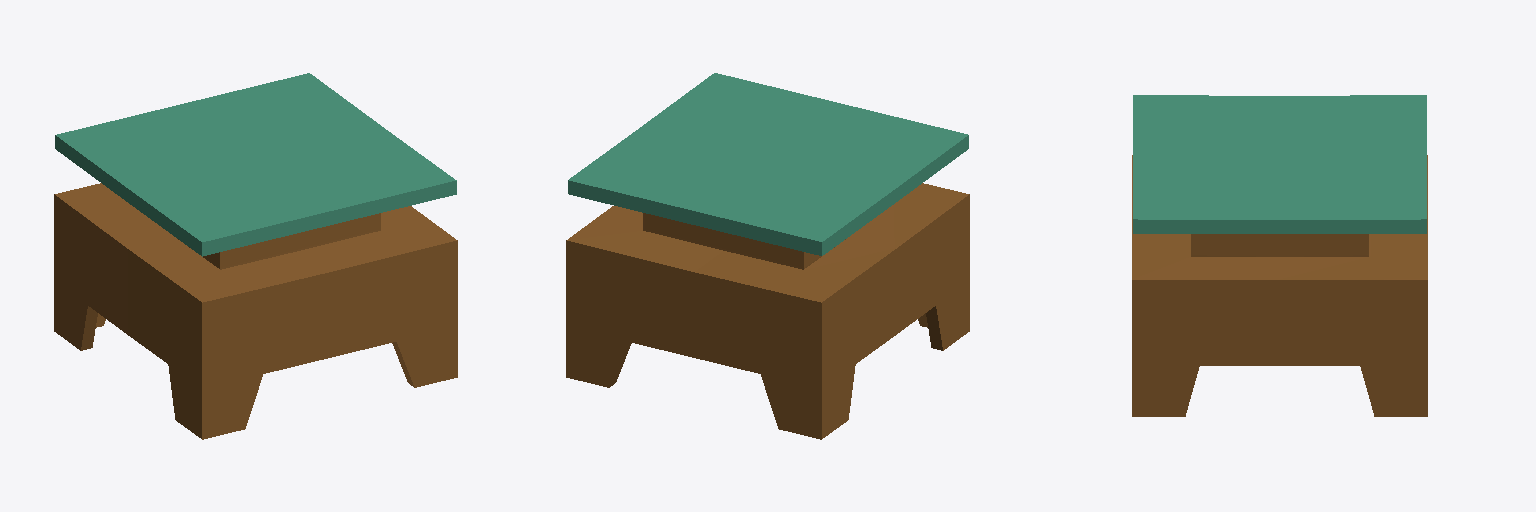
The model's file is Table.obj.
3 renders of one model, left to right at view 1: azimuth 30°, elevation 25°; view 2: azimuth 150°, elevation 25°; view 3: azimuth 270°, elevation 25°, orthographic.
Visible parts, largest first — view 1: Wood Table, Table Marble; view 2: Wood Table, Table Marble; view 3: Wood Table, Table Marble.
Boxes of the visible parts, box(x1,y1,x2,y2) form: Wood Table: box(54, 183, 457, 439); Table Marble: box(55, 73, 456, 256); Wood Table: box(566, 183, 969, 439); Table Marble: box(568, 73, 968, 255); Wood Table: box(1132, 155, 1427, 416); Table Marble: box(1133, 95, 1426, 233).
Bounding box in the file's own units: 1.7 × 1.25 × 1.7.